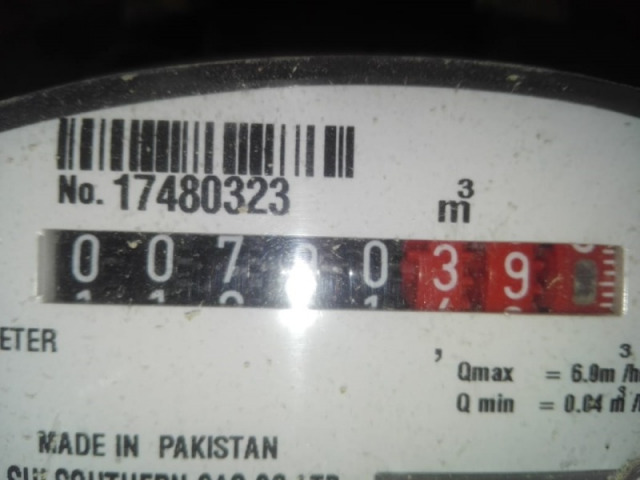ssgc: (29, 227, 626, 323)
